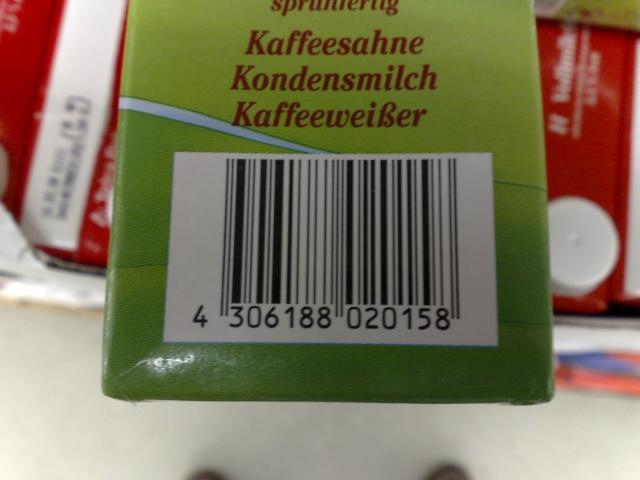Barcode: (164, 151, 499, 346)
